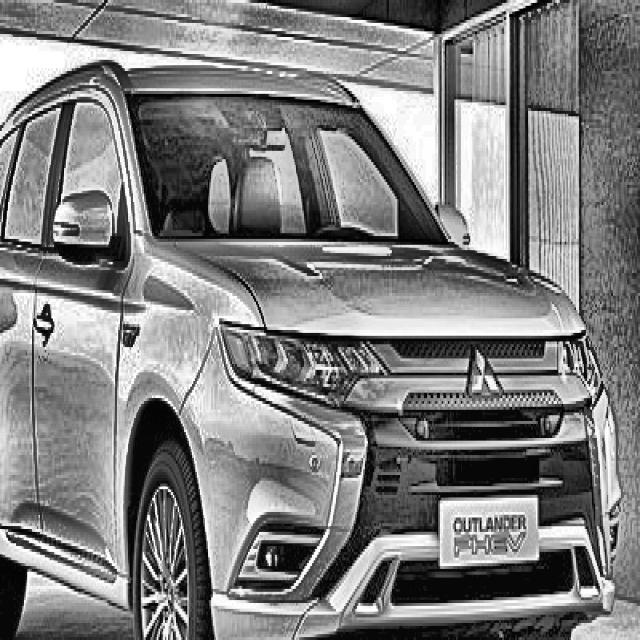light_vehicle: (0, 59, 622, 640)
